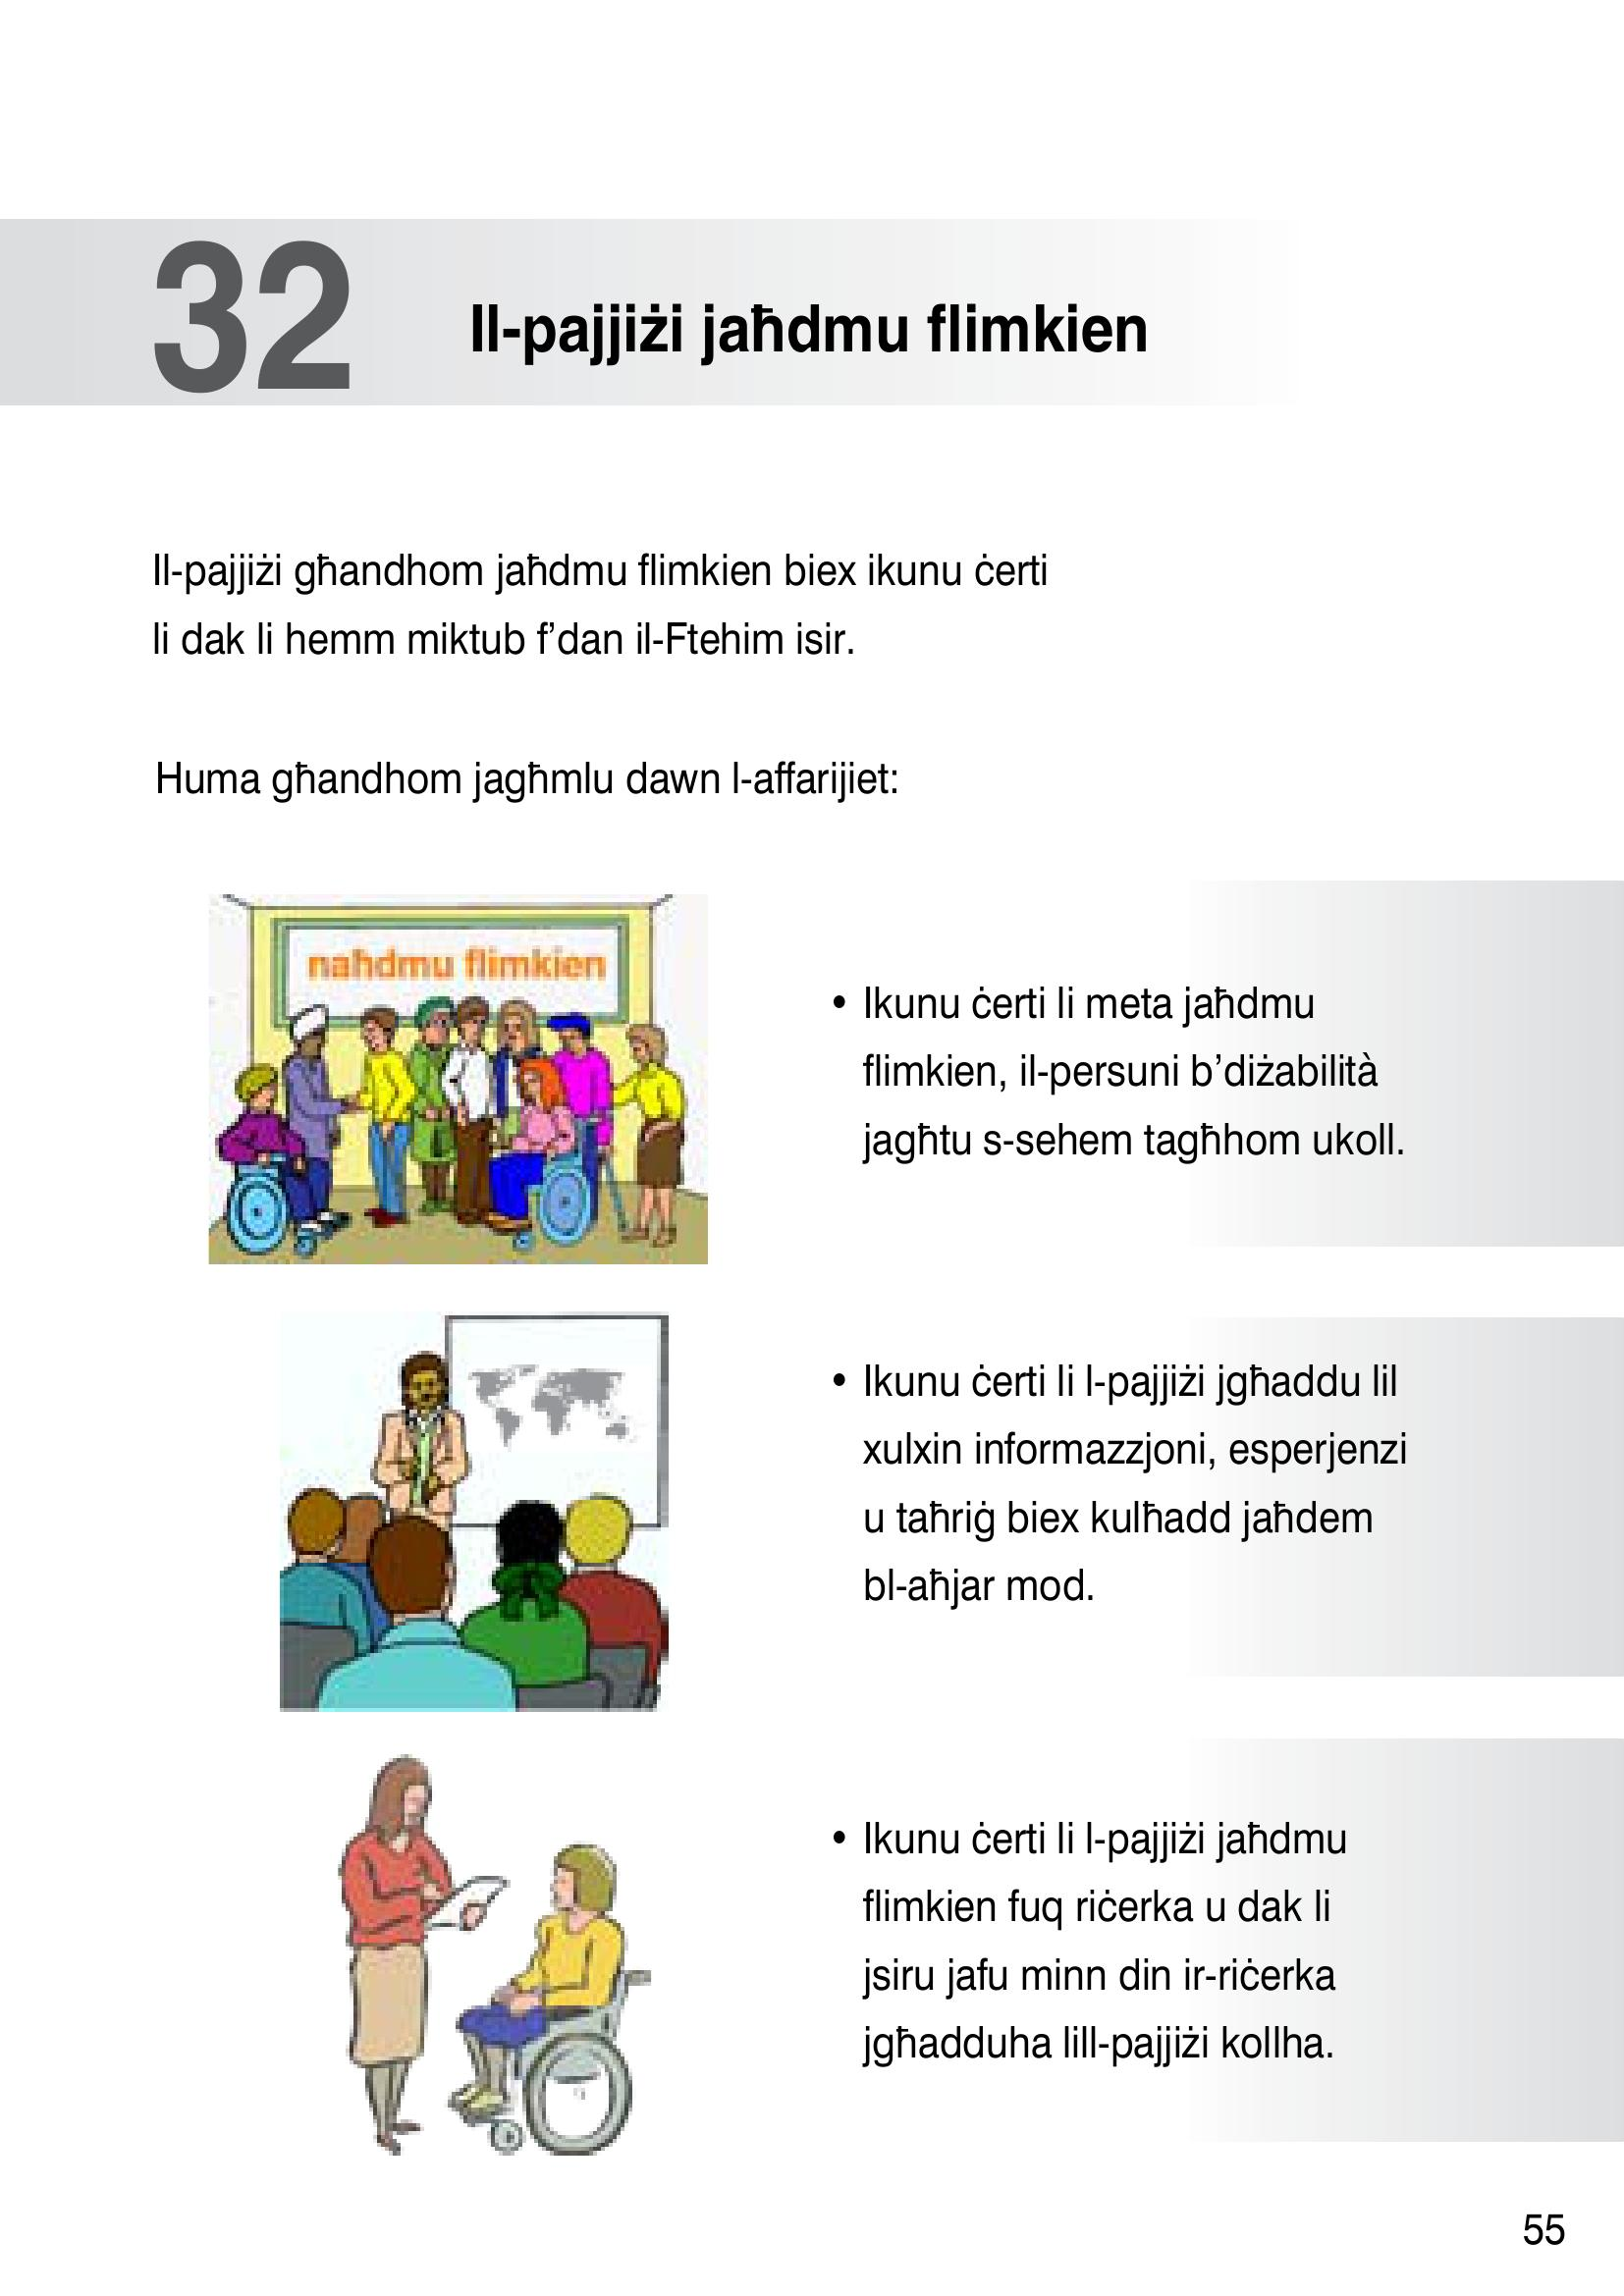text: (793, 945, 1425, 2106), (130, 213, 1181, 845)
